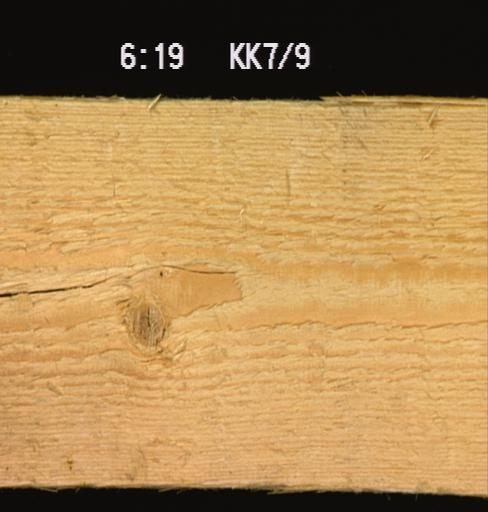sound_knot: (121, 293, 181, 358)
split: (0, 258, 244, 303), (314, 95, 486, 114)
